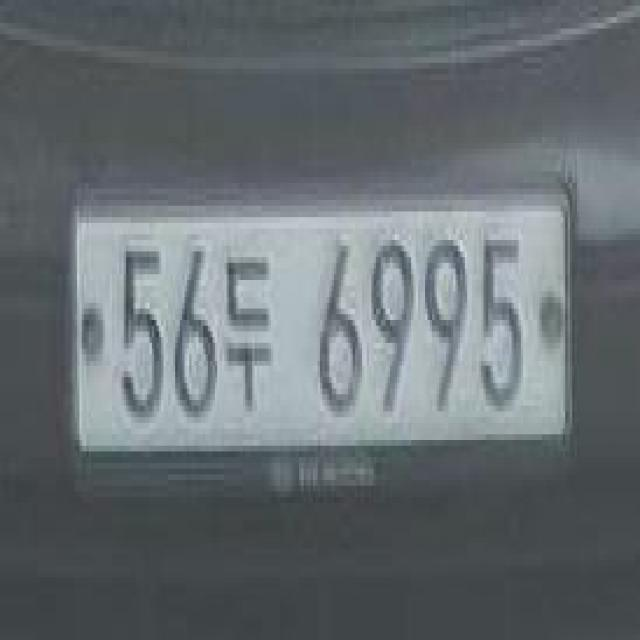illegal_plate: (69, 180, 571, 502)
